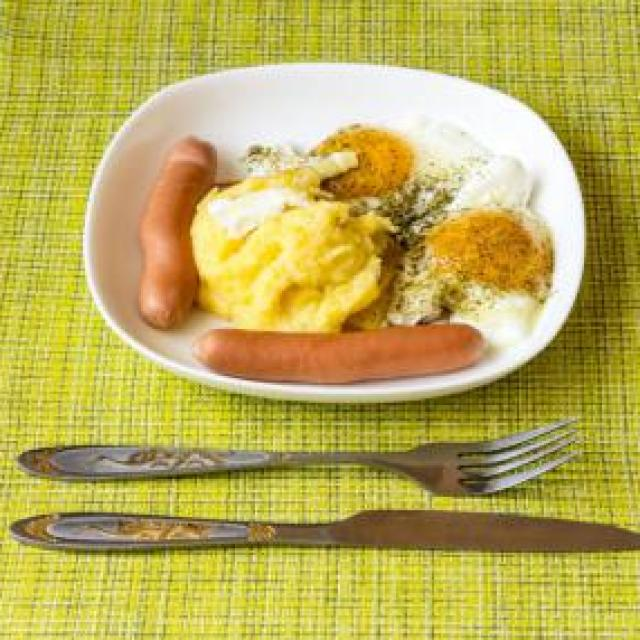knife: (9, 510, 640, 555)
